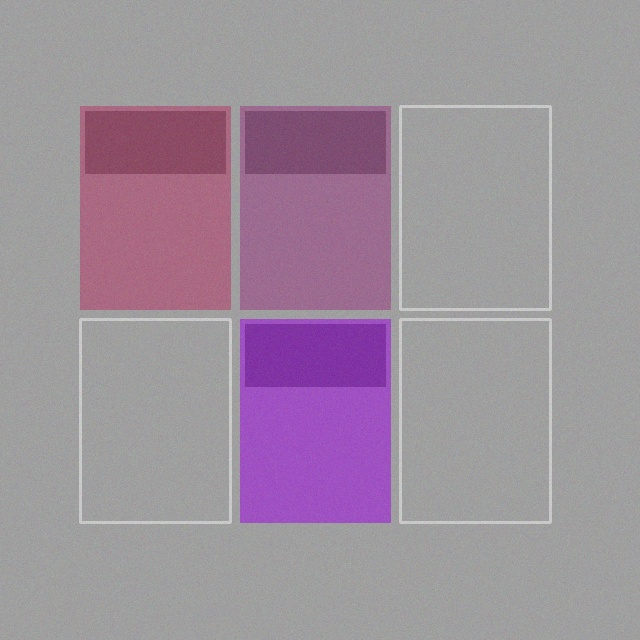space-empty: (400, 106, 550, 309), (80, 319, 230, 522), (400, 319, 550, 522)
space-occupied: (80, 106, 230, 309), (240, 106, 390, 309), (240, 319, 390, 522)
